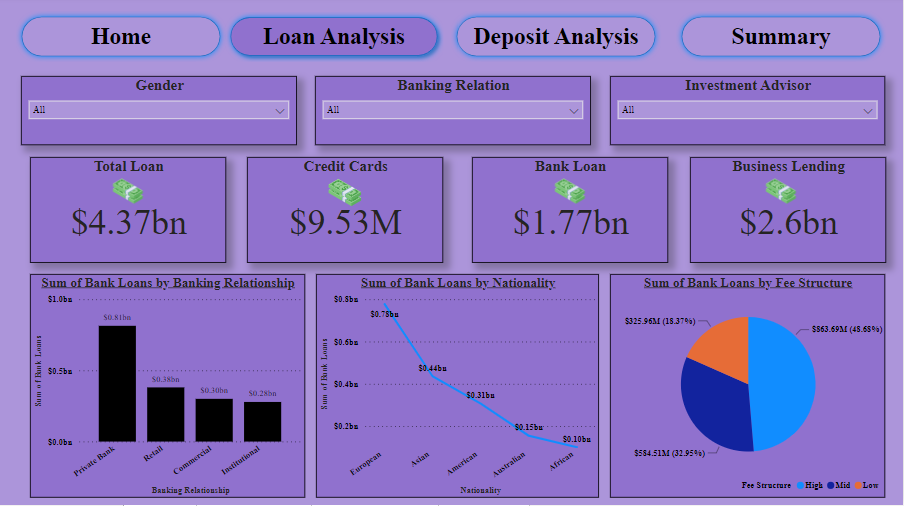

Layout of this report page (visuals, bound fields, positions):
{"tool":"powerbi","page":{"name":"Loan Analysis","canvas":[1280,720],"ordinal":1},"visuals":[{"type":"shape","box":[959.5,19.8,297.6,72.3],"z":0},{"type":"shape","box":[640.6,19.8,297.6,72.3],"z":1000},{"type":"shape","box":[299.1,19.8,351.5,72.3],"z":2000},{"type":"slicer","title":"Banking Relation","fields":{"Values":["Clients - Banking.Banking Relationship"]},"box":[447.9,112,391.2,97.8],"z":3000},{"type":"slicer","title":"Gender","fields":{"Values":["Clients - Banking.Gender.Gender"]},"box":[31.2,112,391.2,97.8],"z":4000},{"type":"card","title":"Total Loan","fields":{"Values":["Banking Relationship.Total Loan"]},"box":[43.9,226.8,277.8,150.2],"z":5000},{"type":"card","title":"Credit Cards","fields":{"Values":["Sum(Clients - Banking.Credit Card Balance)"]},"box":[351.5,226.8,277.8,150.2],"z":6000},{"type":"card","title":"Bank Loan","fields":{"Values":["Sum(Clients - Banking.Bank Loans)"]},"box":[670.4,226.8,277.8,150.2],"z":7000},{"type":"card","title":"Business Lending","fields":{"Values":["Sum(Clients - Banking.Business Lending)"]},"box":[979.4,226.8,277.8,150.2],"z":8000},{"type":"columnChart","fields":{"Y":["Sum(Clients - Banking.Bank Loans)"],"Category":["Clients - Banking.Banking Relationship"]},"box":[43.9,392.6,389.8,317.5],"z":9000},{"type":"pieChart","fields":{"Y":["Sum(Clients - Banking.Bank Loans)"],"Category":["Clients - Banking.Fee Structure"]},"box":[866,392.6,389.8,317.5],"z":10000},{"type":"lineChart","fields":{"Category":["Clients - Banking.Bank Loans","Clients - Banking.Nationality"],"Y":["Sum(Clients - Banking.Bank Loans)"]},"box":[449.3,392.6,401.1,317.5],"z":11000},{"type":"image","box":[744.1,248,130.4,53.9],"z":12000},{"type":"image","box":[117.6,248,130.4,53.9],"z":13000},{"type":"image","box":[425.2,248,130.4,58.1],"z":14000},{"type":"image","box":[1043.1,248,130.4,53.9],"z":15000},{"type":"slicer","title":"Investment Advisor","fields":{"Values":["Clients - Banking.Investment Advisor"]},"box":[866,112,389.8,97.8],"z":16000},{"type":"shape","box":[24.1,19.8,297.6,72.3],"z":17000}]}

Visuals, with their boxes in screenshot pixels (x1, y1, x2, y2), scaled from the page's 1280x720 canvas onto the 904x506 screenshot:
shape: (x1=678, y1=14, x2=888, y2=65)
shape: (x1=452, y1=14, x2=663, y2=65)
shape: (x1=211, y1=14, x2=459, y2=65)
"Banking Relation" slicer: (x1=316, y1=79, x2=593, y2=147)
"Gender" slicer: (x1=22, y1=79, x2=298, y2=147)
"Total Loan" card: (x1=31, y1=159, x2=227, y2=265)
"Credit Cards" card: (x1=248, y1=159, x2=444, y2=265)
"Bank Loan" card: (x1=473, y1=159, x2=670, y2=265)
"Business Lending" card: (x1=692, y1=159, x2=888, y2=265)
columnChart - Sum(Clients - Banking.Bank Loans) x Clients - Banking.Banking Relationship: (x1=31, y1=276, x2=306, y2=499)
pieChart - Sum(Clients - Banking.Bank Loans) x Clients - Banking.Fee Structure: (x1=612, y1=276, x2=887, y2=499)
lineChart - Clients - Banking.Bank Loans x Clients - Banking.Nationality: (x1=317, y1=276, x2=601, y2=499)
image: (x1=526, y1=174, x2=618, y2=212)
image: (x1=83, y1=174, x2=175, y2=212)
image: (x1=300, y1=174, x2=392, y2=215)
image: (x1=737, y1=174, x2=829, y2=212)
"Investment Advisor" slicer: (x1=612, y1=79, x2=887, y2=147)
shape: (x1=17, y1=14, x2=227, y2=65)
